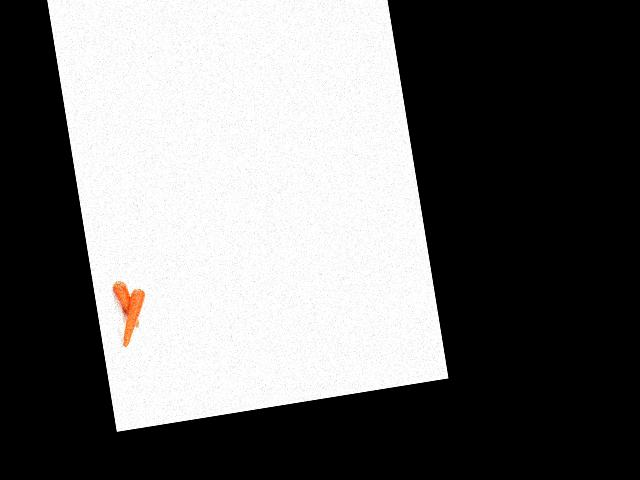carrot: (111, 274, 140, 334)
